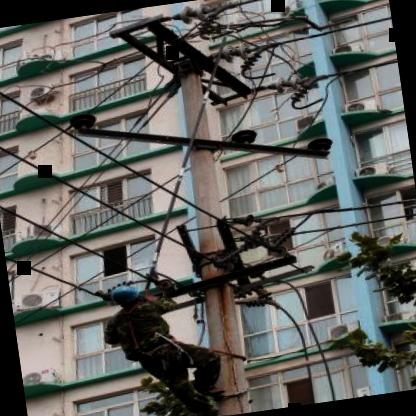helmet: (106, 280, 148, 312)
